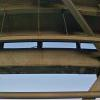Bridge: (3, 2, 100, 92)
